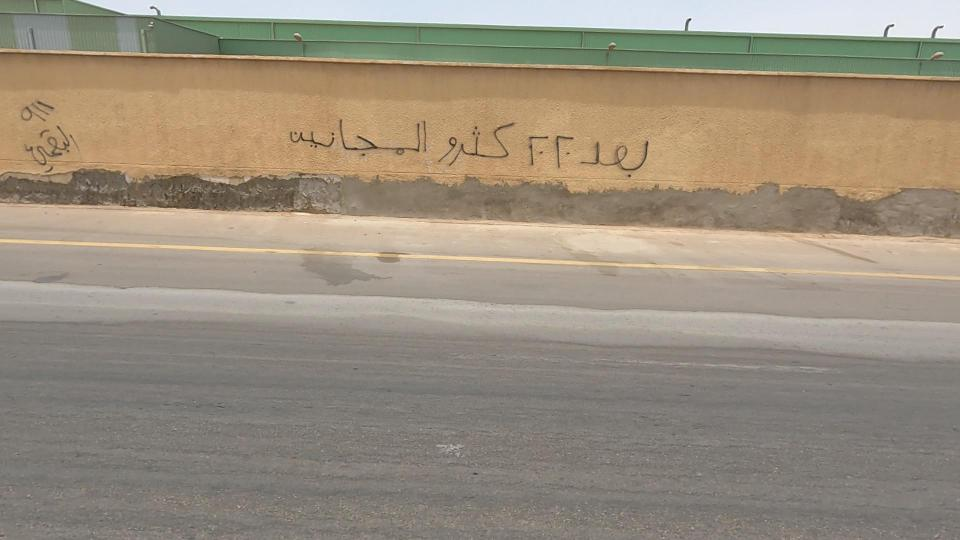GRAFFITI: (68, 79, 851, 204), (0, 56, 130, 197)
UNKEPT_FACADE: (577, 144, 960, 270), (317, 142, 717, 256), (104, 145, 484, 234), (0, 130, 271, 239)
